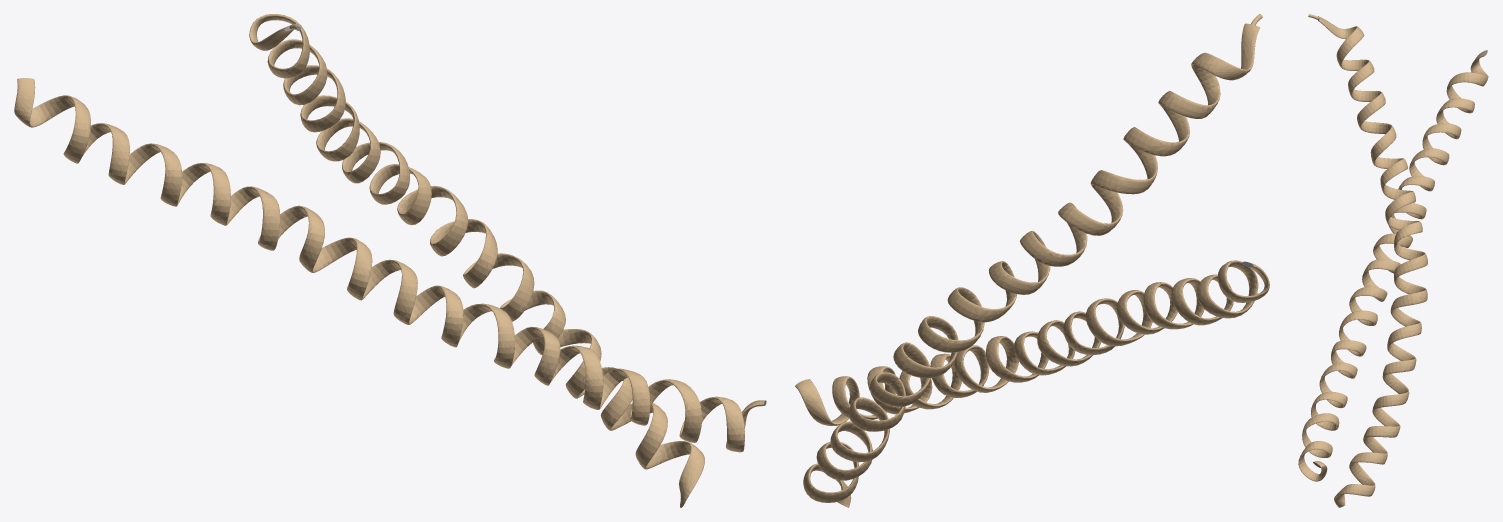
File: 1fosYarms_reduced.FBX
The picture shows the model from 3 angles, left to right: view 1: azimuth 30°, elevation 25°; view 2: azimuth 150°, elevation 25°; view 3: azimuth 270°, elevation 25°; orthographic projection. The views are drawn at different scales.
Visible parts, largest first — view 1: no part large enough to name; view 2: VIFS084, VIFS073, VIFS095, VIFS080, VIFS091, VIFS077, VIFS102, VIFS088; view 3: VIFS114, VIFS096, VIFS074, VIFS085, VIFS107, VIFS103, VIFS121, VIFS036, VIFS078, VIFS025, VIFS047, VIFS014 (+10 smaller).
Part boxes in pixels (x1,y1,x2,y2): VIFS084: (1062,205,1104,235); VIFS073: (1165,92,1207,118); VIFS095: (948,290,985,321); VIFS080: (1110,174,1152,194); VIFS091: (996,271,1039,294); VIFS077: (1124,127,1159,154); VIFS102: (902,357,946,378); VIFS088: (1020,231,1050,263); VIFS114: (1369,426,1395,437); VIFS096: (1395,257,1421,277); VIFS074: (1349,63,1373,87); VIFS085: (1381,160,1405,183); VIFS107: (1384,360,1409,375); VIFS103: (1397,323,1421,339); VIFS121: (1350,484,1374,496); VIFS036: (1371,259,1397,271); VIFS078: (1357,101,1378,126); VIFS025: (1404,176,1431,188); VIFS047: (1335,340,1361,352); VIFS014: (1449,98,1473,111).
Bounding box in the file's own units: 72.32 × 66.26 × 30.79.
